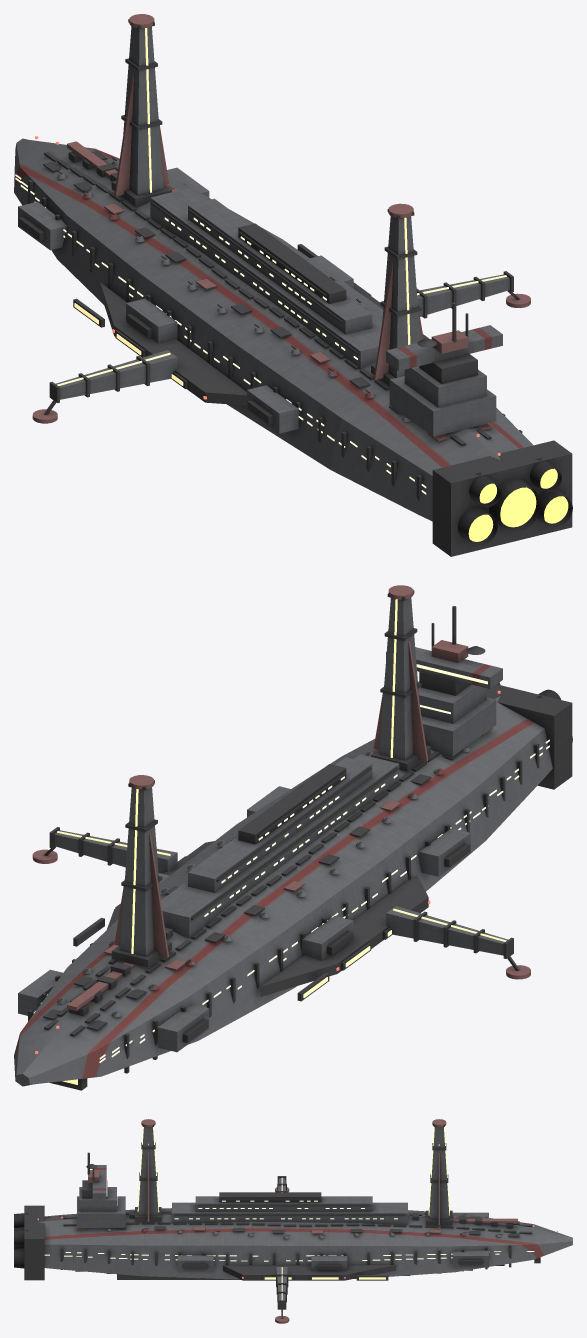
The model's file is leviathan.glb.
3 renders of one model, top to bottom at view 1: azimuth 30°, elevation 25°; view 2: azimuth 150°, elevation 25°; view 3: azimuth 270°, elevation 25°, orthographic. The views are drawn at different scales.
Parts seen in each view (by area): view 1: Leviathan_Mid, Leviathan_Stern, Leviathan_Bow, Leviathan_Engines, Leviathan_Hangar, Leviathan_Windows; view 2: Leviathan_Mid, Leviathan_Bow, Leviathan_Stern, Leviathan_Hangar, Leviathan_Windows; view 3: Leviathan_Mid, Leviathan_Stern, Leviathan_Bow, Leviathan_Windows, Leviathan_Hangar.
Boxes of the visible parts, x1,y1,x2,y2 form: Leviathan_Mid: (32,188,530,469); Leviathan_Stern: (268,203,572,556); Leviathan_Bow: (14,14,281,304); Leviathan_Engines: (468,468,568,541); Leviathan_Hangar: (57,28,506,385); Leviathan_Windows: (15,174,426,494); Leviathan_Mid: (32,754,530,1001); Leviathan_Bow: (14,775,294,1090); Leviathan_Stern: (342,585,572,840); Leviathan_Hangar: (57,599,506,1084); Leviathan_Windows: (14,664,549,1062); Leviathan_Mid: (140,1176,407,1323); Leviathan_Stern: (14,1119,232,1280); Leviathan_Bow: (360,1119,572,1276); Leviathan_Windows: (44,1168,534,1261); Leviathan_Hangar: (137,1127,541,1300).
Size of the model in its own units: 551 by 298 by 960.
Materials: 5 (1 with a texture image).
